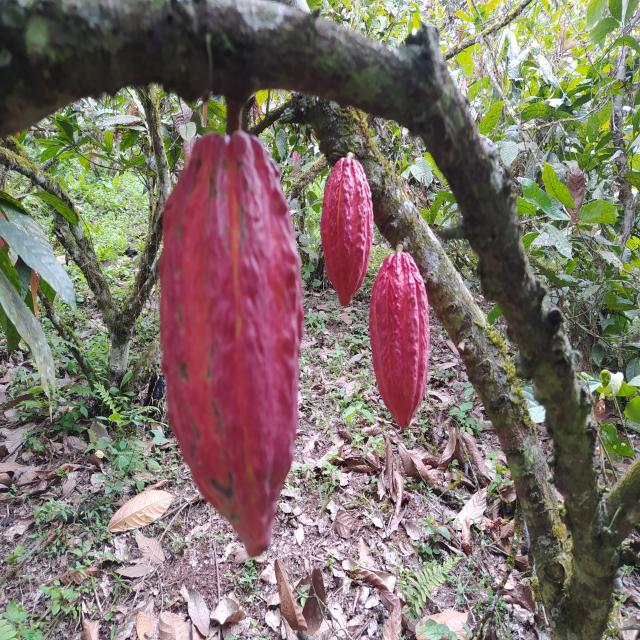Sana: (157, 129, 306, 556), (372, 253, 434, 429), (322, 151, 374, 305)
